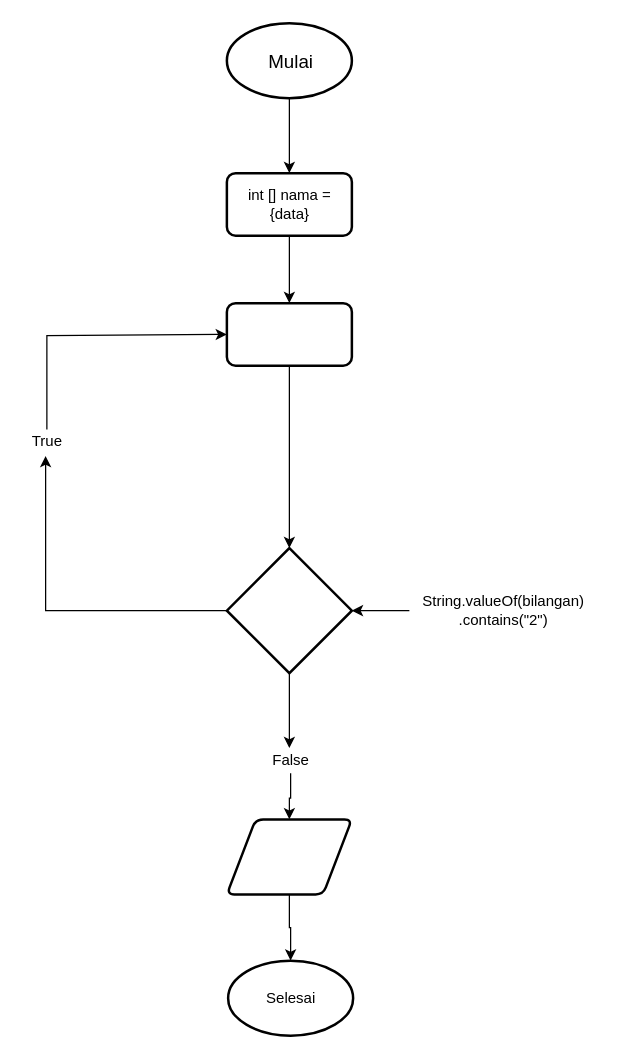
Image size: 618x1058. Some labels were removed from this diagram. Each missing label, with the centre of its shape:
"int bilangan : data" belongs at point 288,333.
"Print bilangan" belongs at point 288,856.
